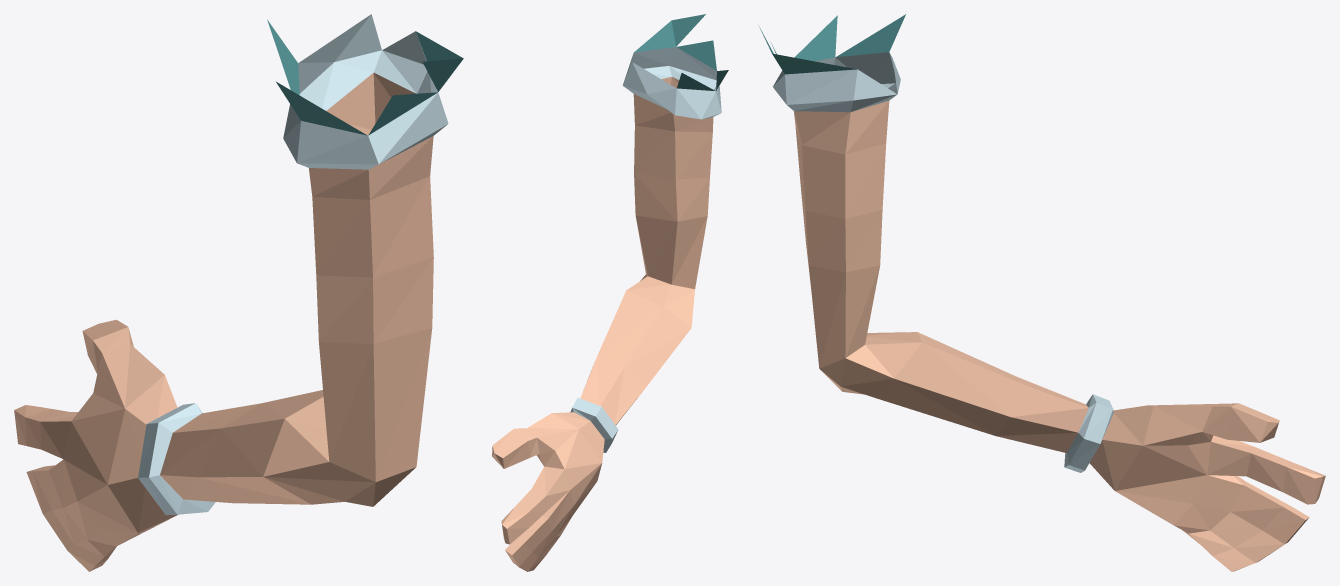
Rendered from Mother_01_ArmL_66.obj.
3 renders of one model, left to right at view 1: azimuth 30°, elevation 25°; view 2: azimuth 150°, elevation 25°; view 3: azimuth 270°, elevation 25°, orthographic. The views are drawn at different scales.
Parts seen in each view (by area): view 1: Mother_01_ArmL_66; view 2: Mother_01_ArmL_66; view 3: Mother_01_ArmL_66.
Part boxes in pixels (bbox=[...]): Mother_01_ArmL_66: bbox=[14, 14, 463, 571]; Mother_01_ArmL_66: bbox=[492, 14, 728, 571]; Mother_01_ArmL_66: bbox=[758, 14, 1325, 571].
Size of the model in its own units: 0.1419 by 0.6088 by 0.5658.
Materials: 1 (1 with a texture image).
